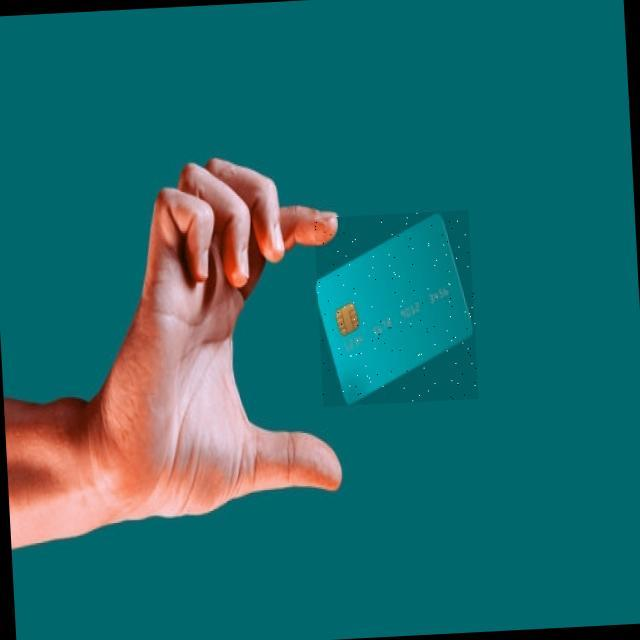payment_card: (313, 208, 478, 405)
